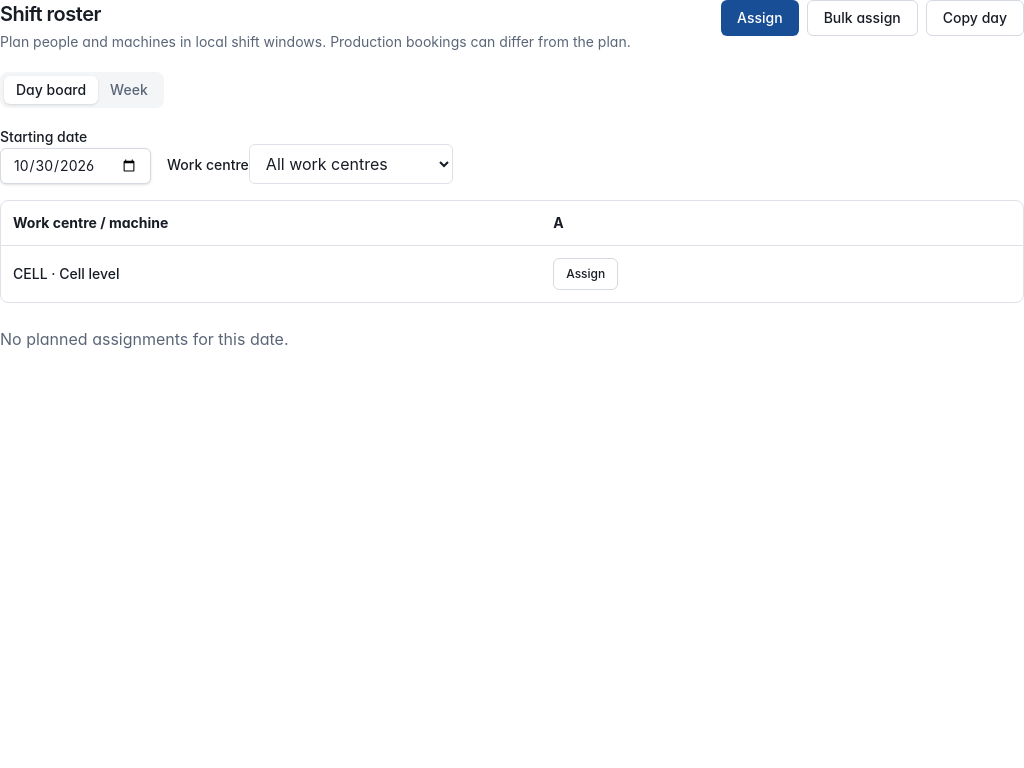
Scenario: shift and roster permissions › posts the selected cell and operator and surfaces a conflict
This screenshot has width=1024, height=768.
Step 1. Click the button "Assign" in the row of "Shift roster" → x=760, y=18, box [721,0,799,36]
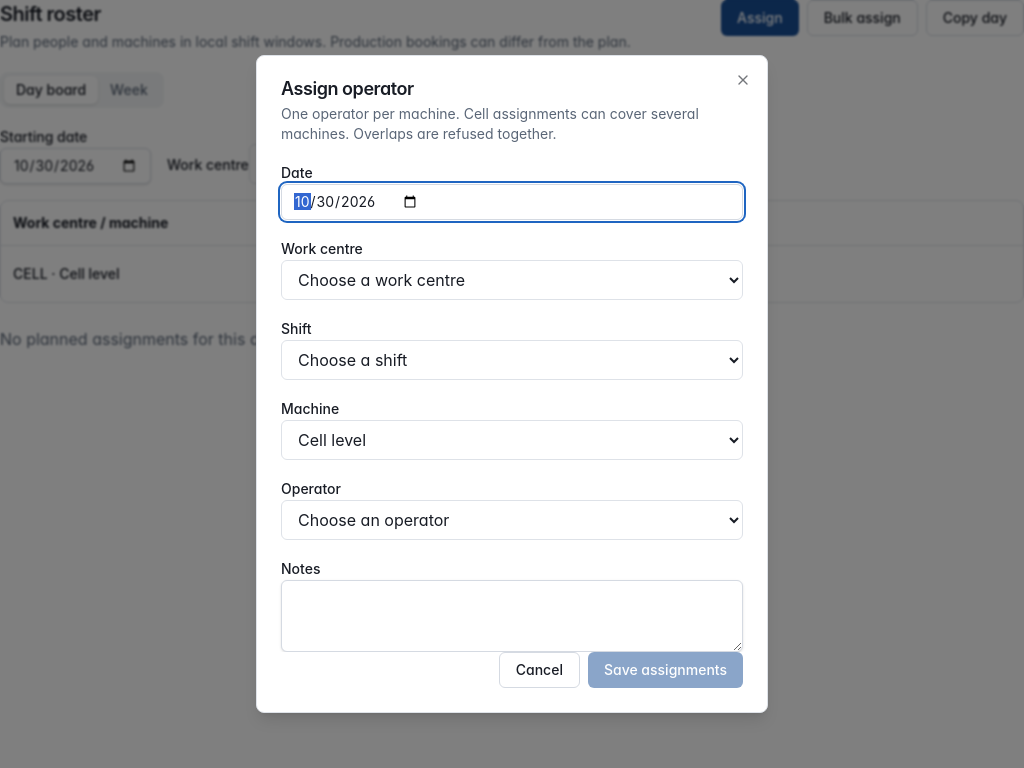
Step 2. Select "CELL · Assembly cell" in the dropdown labelled "Work centre" → x=512, y=280, box [281,260,743,300]
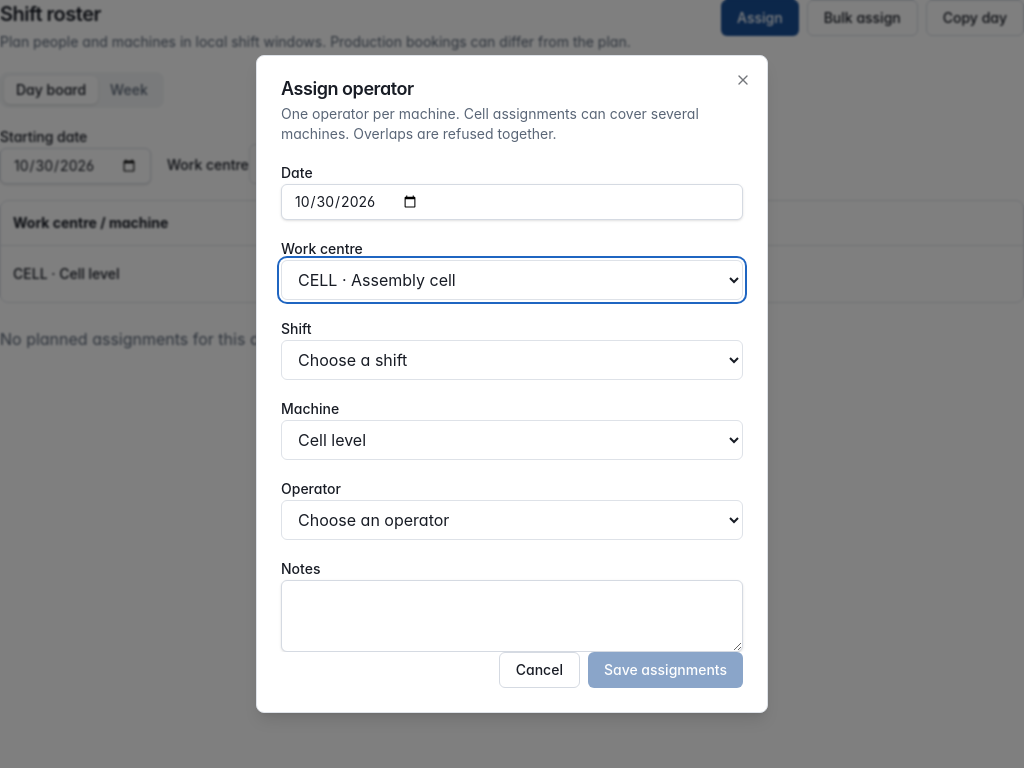
Step 3. Select "A · Morning (06:00–14:00)" in the dropdown labelled "Shift" → x=512, y=360, box [281,340,743,380]
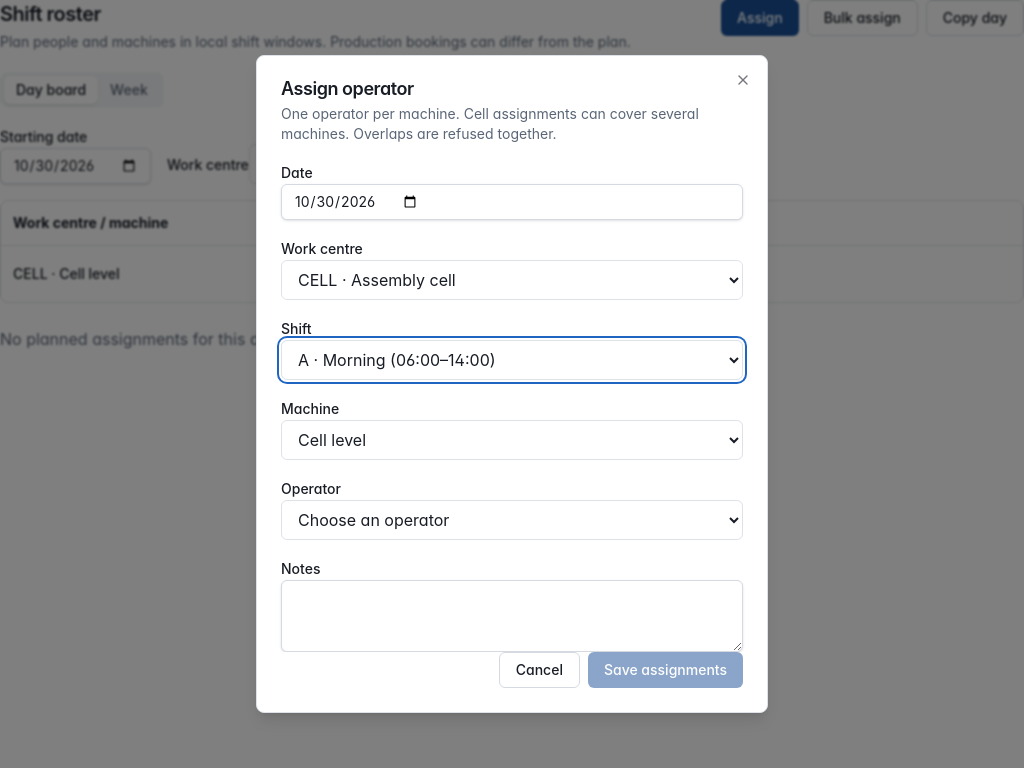
Step 4. Select "Neha Patel OP-001" in the dropdown labelled "Operator" → x=512, y=520, box [281,500,743,540]
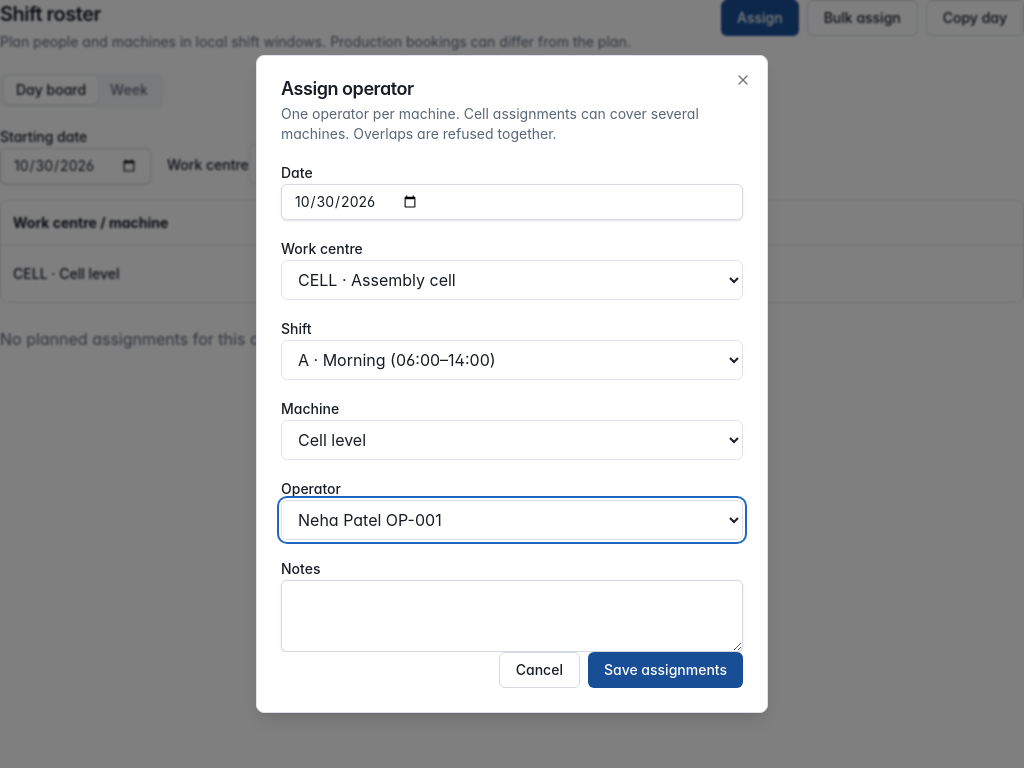
Step 5. Click the button "Save assignments" → x=665, y=670, box [588,652,743,688]
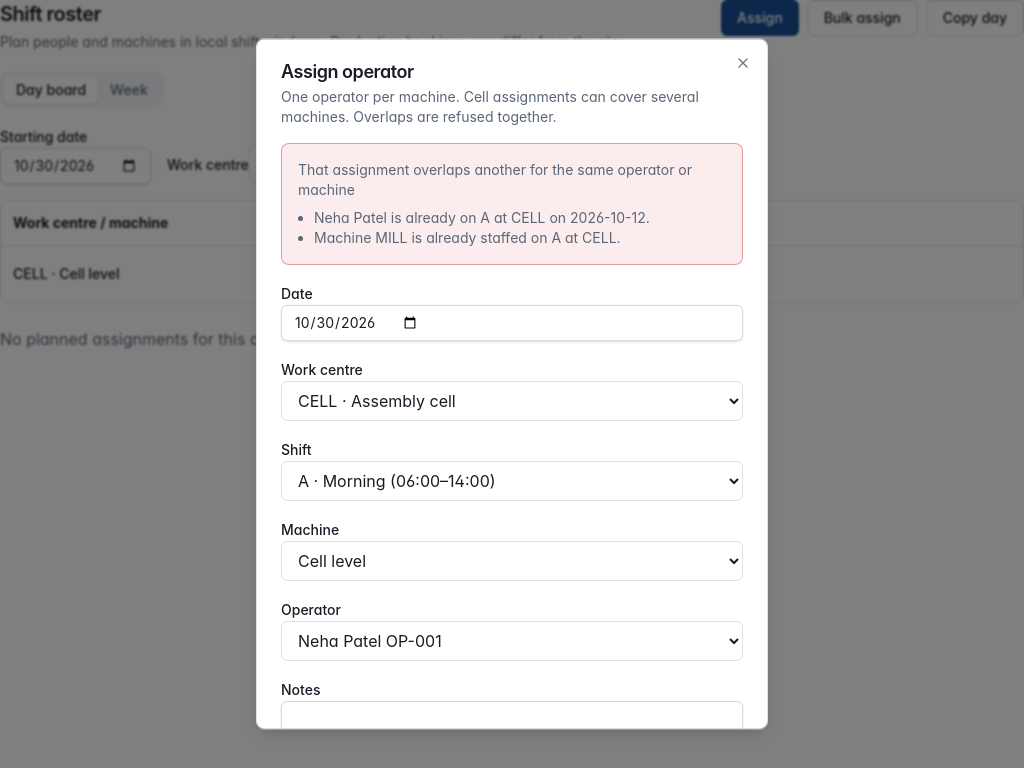
Expected: the text "That assignment overlaps" is shown, [298,161,692,198]
Expected: the list item "Neha Patel is already on A at CELL on 2026-10-12." is shown, [314,209,650,226]
Expected: the list item "Machine MILL is already staffed on A at CELL." is shown, [314,229,621,246]
